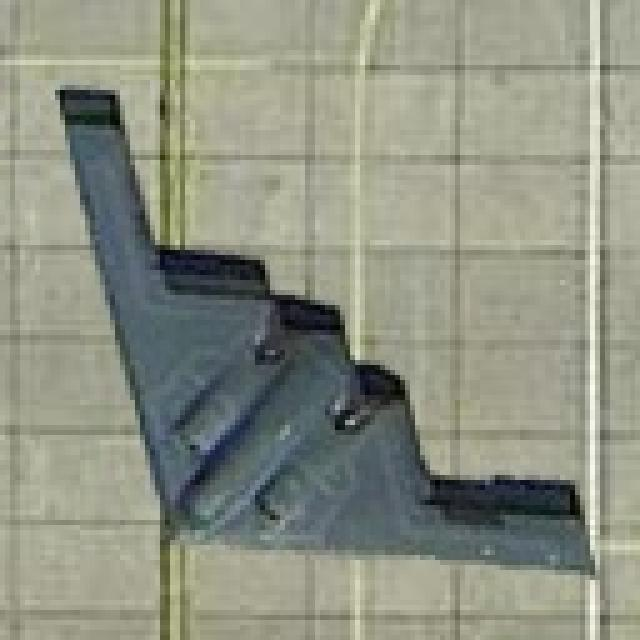B-2_TopDown: (45, 75, 600, 635)
